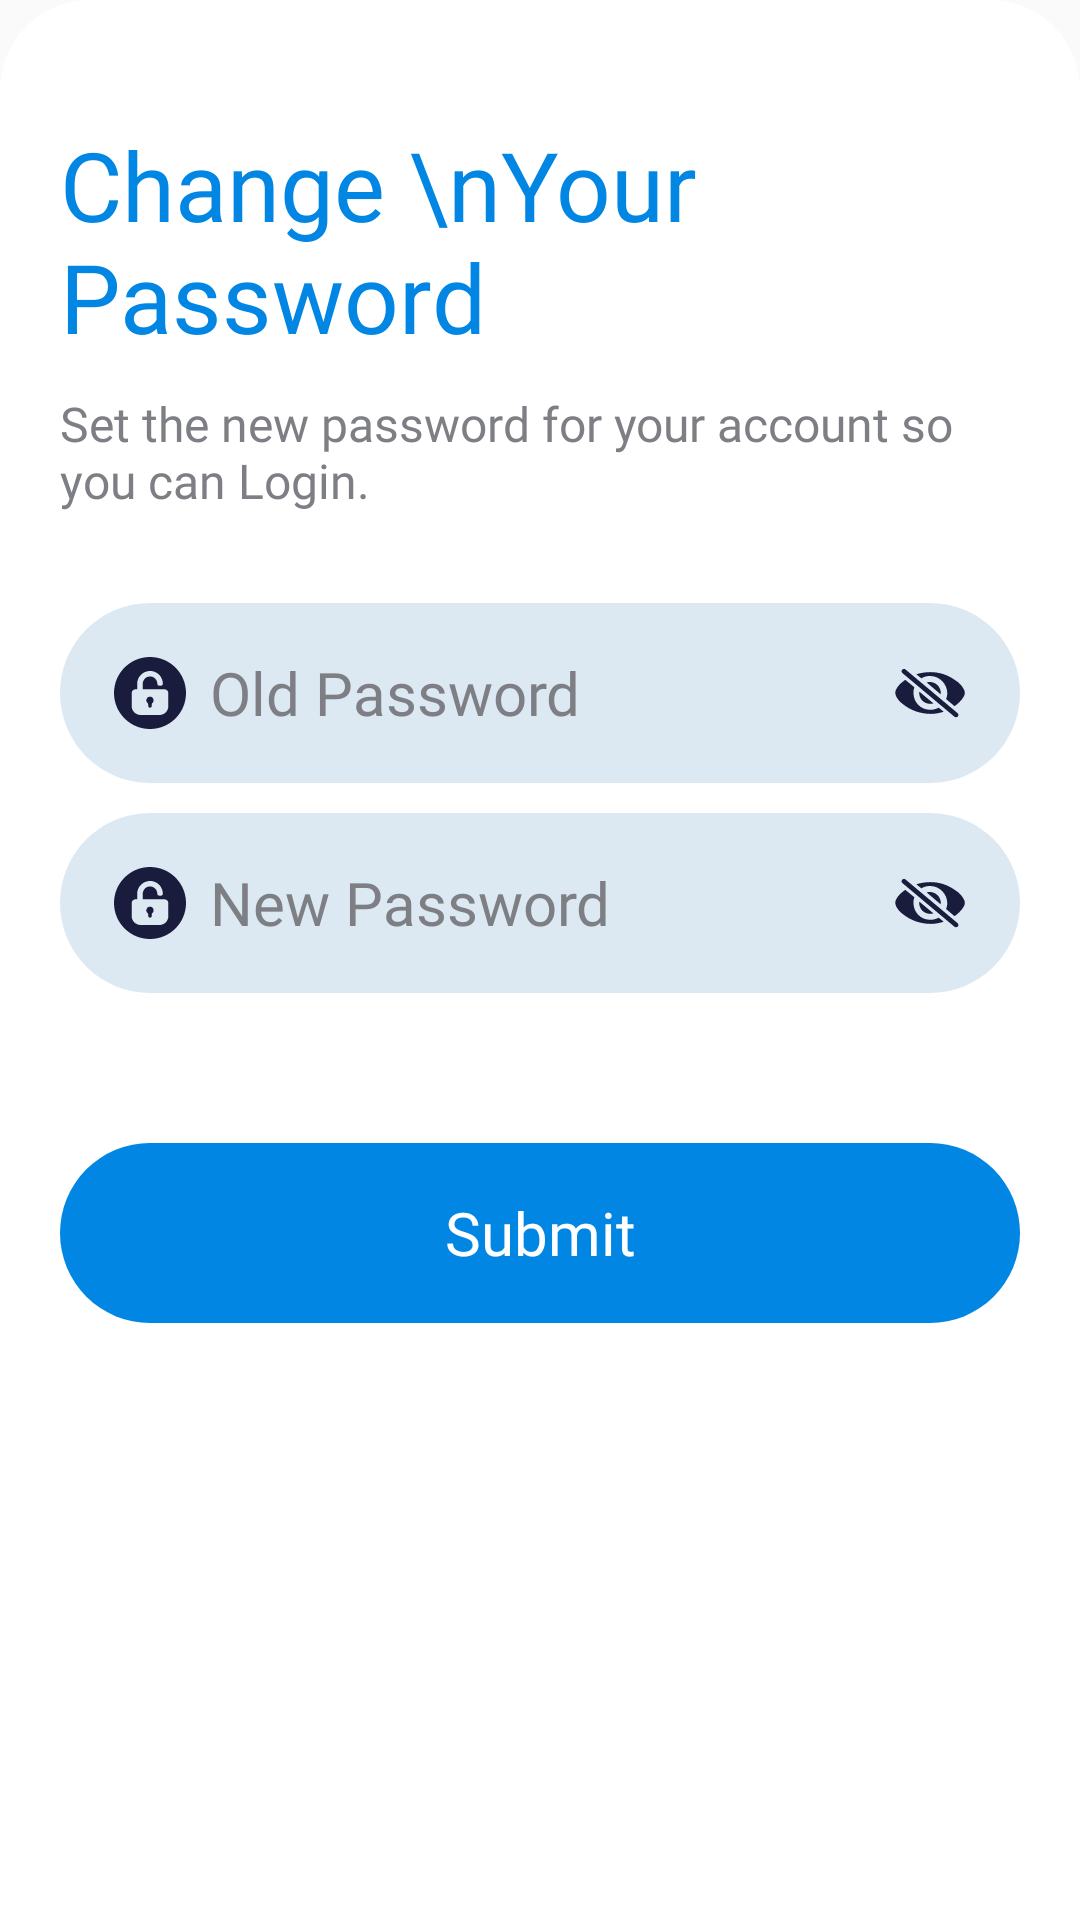

Where to tap for icons on this 1080 × 1920 app screen, as (x=x, y=y):
pass hide: (x=930, y=693), (x=930, y=903)
